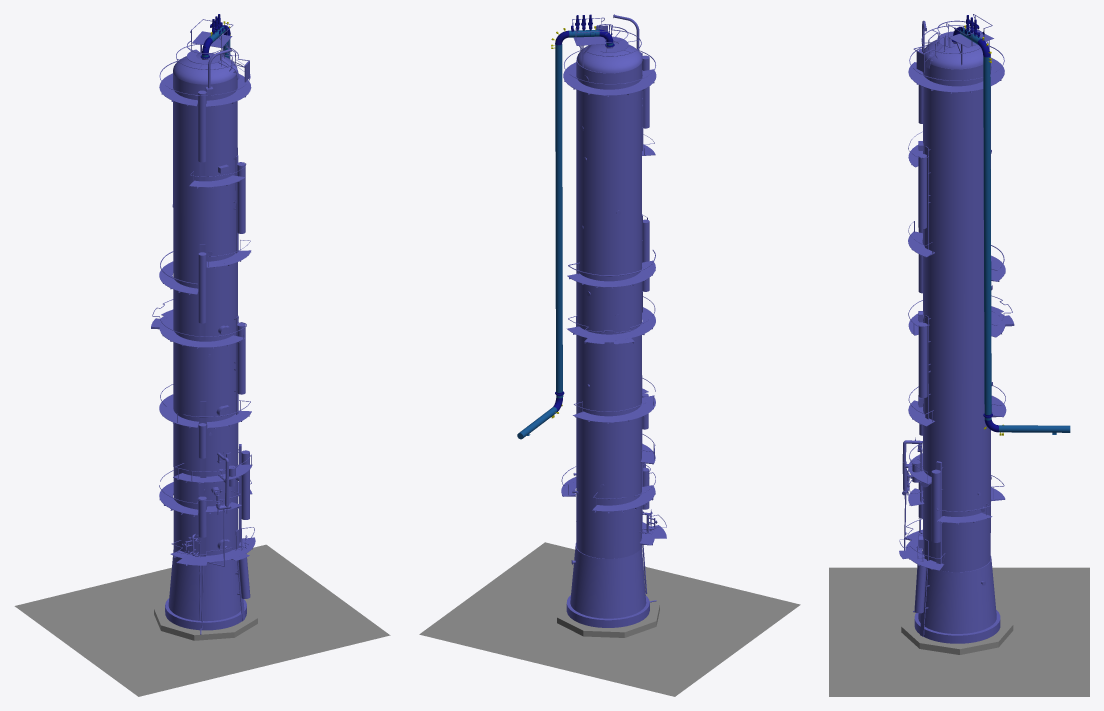
The picture shows the model from 3 angles, left to right: view 1: azimuth 30°, elevation 25°; view 2: azimuth 150°, elevation 25°; view 3: azimuth 270°, elevation 25°; orthographic projection. The views are drawn at different scales.
Parts seen in each view (by area): view 1: 08055525-6b00-ef11-9958-002248e989ec_1_1_1, 0b055525-6b00-ef11-9958-002248e989ec_1_1_1, 08055525-6b00-ef11-9958-002248e989ec_1_2_1, 08055525-6b00-ef11-9958-002248e989ec_1_4_1, 08055525-6b00-ef11-9958-002248e989ec_9_1_1, 08055525-6b00-ef11-9958-002248e989ec_4_1_1, 08055525-6b00-ef11-9958-002248e989ec_6_1_1, 08055525-6b00-ef11-9958-002248e989ec_8_1_1, 08055525-6b00-ef11-9958-002248e989ec_11_1_1, 08055525-6b00-ef11-9958-002248e989ec_1_3_1, 08055525-6b00-ef11-9958-002248e989ec_10_1_1; view 2: 08055525-6b00-ef11-9958-002248e989ec_1_1_1, 0b055525-6b00-ef11-9958-002248e989ec_1_1_1, 0a055525-6b00-ef11-9958-002248e989ec_1_1_1, 08055525-6b00-ef11-9958-002248e989ec_1_2_1, 08055525-6b00-ef11-9958-002248e989ec_1_4_1, 08055525-6b00-ef11-9958-002248e989ec_1_3_1, 08055525-6b00-ef11-9958-002248e989ec_4_1_1; view 3: 08055525-6b00-ef11-9958-002248e989ec_1_1_1, 0b055525-6b00-ef11-9958-002248e989ec_1_1_1, 0a055525-6b00-ef11-9958-002248e989ec_1_1_1, 08055525-6b00-ef11-9958-002248e989ec_9_1_1, 08055525-6b00-ef11-9958-002248e989ec_1_2_1, 08055525-6b00-ef11-9958-002248e989ec_6_1_1, 08055525-6b00-ef11-9958-002248e989ec_1_4_1, 08055525-6b00-ef11-9958-002248e989ec_1_3_1, 0a055525-6b00-ef11-9958-002248e989ec_5_1_1, 08055525-6b00-ef11-9958-002248e989ec_11_1_1, 08055525-6b00-ef11-9958-002248e989ec_4_1_1, 08055525-6b00-ef11-9958-002248e989ec_10_1_1.
Part boxes in pixels (<box>): 08055525-6b00-ef11-9958-002248e989ec_1_1_1: <box>152,53,252,630</box>; 0b055525-6b00-ef11-9958-002248e989ec_1_1_1: <box>14,544,390,696</box>; 08055525-6b00-ef11-9958-002248e989ec_1_2_1: <box>159,19,252,565</box>; 08055525-6b00-ef11-9958-002248e989ec_1_4_1: <box>151,57,251,481</box>; 08055525-6b00-ef11-9958-002248e989ec_9_1_1: <box>235,415,255,621</box>; 08055525-6b00-ef11-9958-002248e989ec_4_1_1: <box>178,48,240,336</box>; 08055525-6b00-ef11-9958-002248e989ec_6_1_1: <box>222,40,249,255</box>; 08055525-6b00-ef11-9958-002248e989ec_8_1_1: <box>177,341,241,483</box>; 08055525-6b00-ef11-9958-002248e989ec_11_1_1: <box>181,489,241,634</box>; 08055525-6b00-ef11-9958-002248e989ec_1_3_1: <box>159,41,254,555</box>; 08055525-6b00-ef11-9958-002248e989ec_10_1_1: <box>198,452,235,556</box>; 08055525-6b00-ef11-9958-002248e989ec_1_1_1: <box>563,41,656,627</box>; 0b055525-6b00-ef11-9958-002248e989ec_1_1_1: <box>419,542,800,696</box>; 0a055525-6b00-ef11-9958-002248e989ec_1_1_1: <box>555,29,613,392</box>; 08055525-6b00-ef11-9958-002248e989ec_1_2_1: <box>561,17,666,545</box>; 08055525-6b00-ef11-9958-002248e989ec_1_4_1: <box>568,46,655,459</box>; 08055525-6b00-ef11-9958-002248e989ec_1_3_1: <box>564,24,666,533</box>; 08055525-6b00-ef11-9958-002248e989ec_4_1_1: <box>613,14,655,291</box>; 08055525-6b00-ef11-9958-002248e989ec_1_1_1: <box>908,38,1012,643</box>; 0b055525-6b00-ef11-9958-002248e989ec_1_1_1: <box>829,567,1089,696</box>; 0a055525-6b00-ef11-9958-002248e989ec_1_1_1: <box>959,28,991,414</box>; 08055525-6b00-ef11-9958-002248e989ec_9_1_1: <box>914,424,974,636</box>; 08055525-6b00-ef11-9958-002248e989ec_1_2_1: <box>899,14,1005,564</box>; 08055525-6b00-ef11-9958-002248e989ec_6_1_1: <box>916,35,971,257</box>; 08055525-6b00-ef11-9958-002248e989ec_1_4_1: <box>908,40,1014,482</box>; 08055525-6b00-ef11-9958-002248e989ec_1_3_1: <box>899,20,1004,564</box>; 0a055525-6b00-ef11-9958-002248e989ec_5_1_1: <box>984,417,1070,434</box>; 08055525-6b00-ef11-9958-002248e989ec_11_1_1: <box>902,473,924,612</box>; 08055525-6b00-ef11-9958-002248e989ec_4_1_1: <box>909,20,941,322</box>; 08055525-6b00-ef11-9958-002248e989ec_10_1_1: <box>902,447,923,518</box>.
Bounding box in the file's own units: 23.7 × 53.42 × 20.23.
